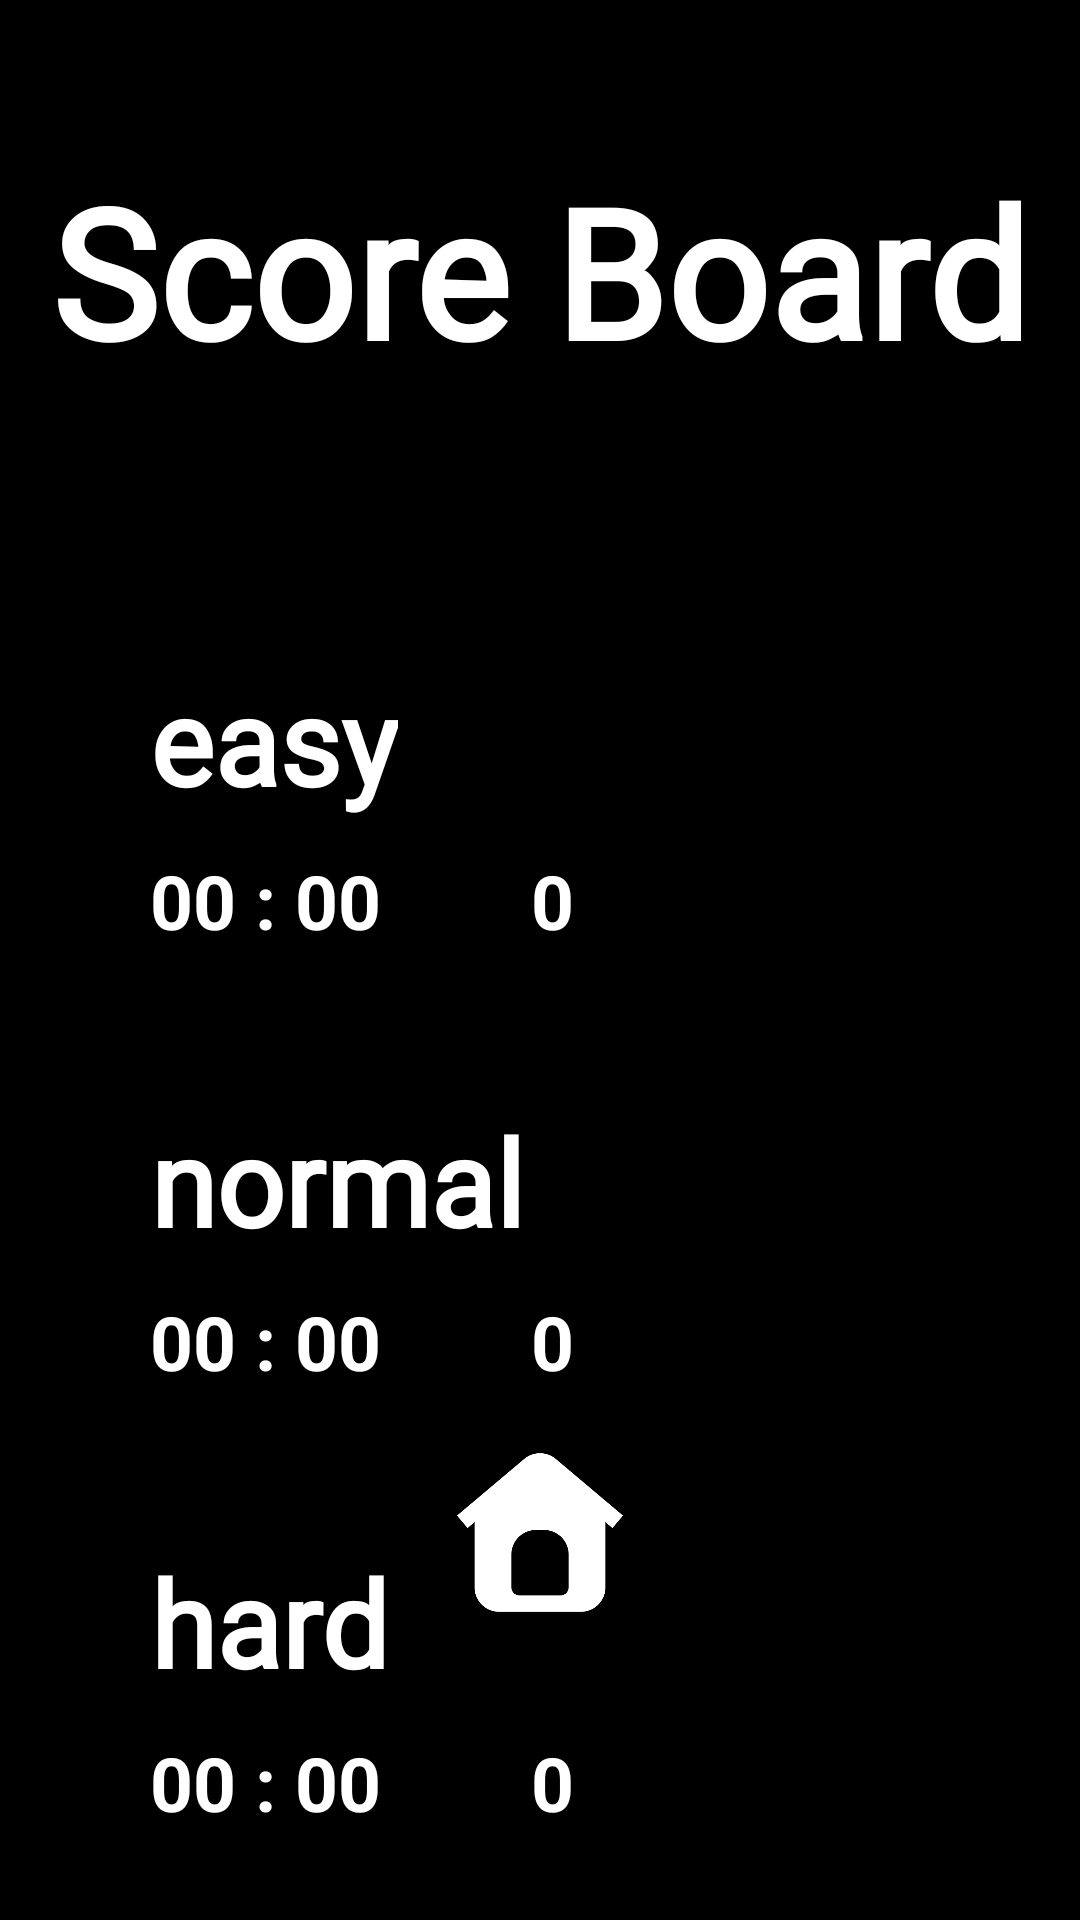

Point at icon controls on the screen. Image size 1080px x 1920px, points as [x,y].
home: [540,1532]
